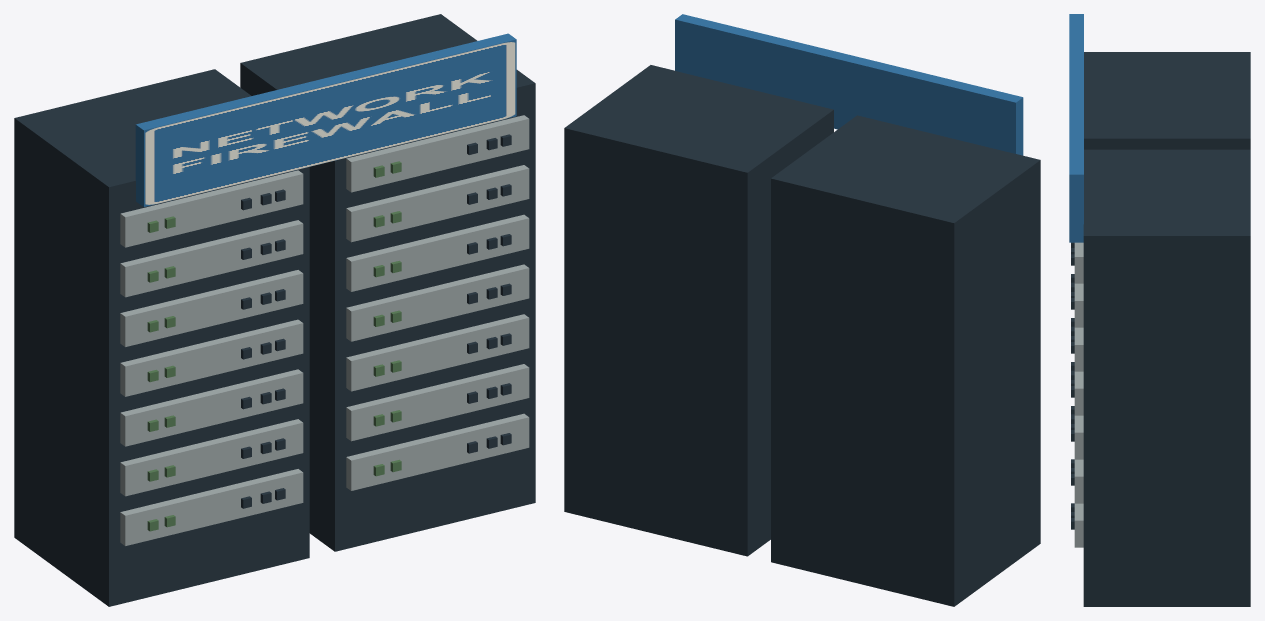
File: scendance-plan-firewall.glb
3 views of the same model, side by side, from view 1: azimuth 30°, elevation 25°; view 2: azimuth 150°, elevation 25°; view 3: azimuth 270°, elevation 25° (orthographic). The views are drawn at different scales.
Size of the model in its own units: 1.51 by 1.61 by 0.63.
Materials: 5 (1 with a texture image).
